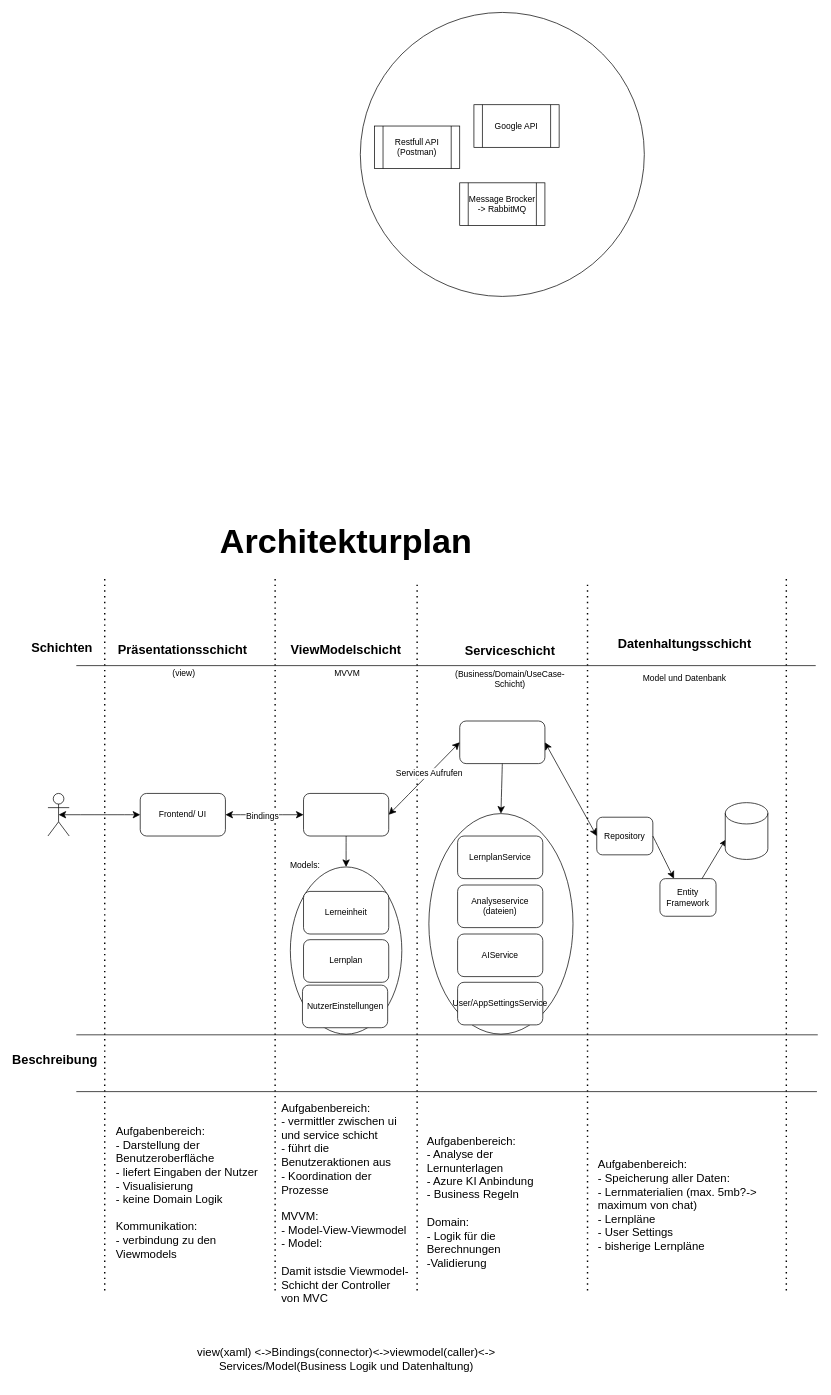
The diagram is 831 pixels wide and 1395 high, and some of its shapes have lost their labels. Each missing label, with the centre of its shape:
"Actor" goes at (58,814).
"Avalonia" goes at (346,814).
"Backend(Domain)" goes at (502,742).
"Database" goes at (746,830).
